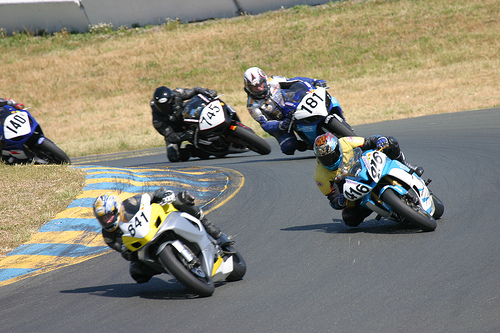helmet: (91, 196, 123, 226), (315, 136, 343, 165), (243, 70, 267, 97), (155, 85, 170, 109)
